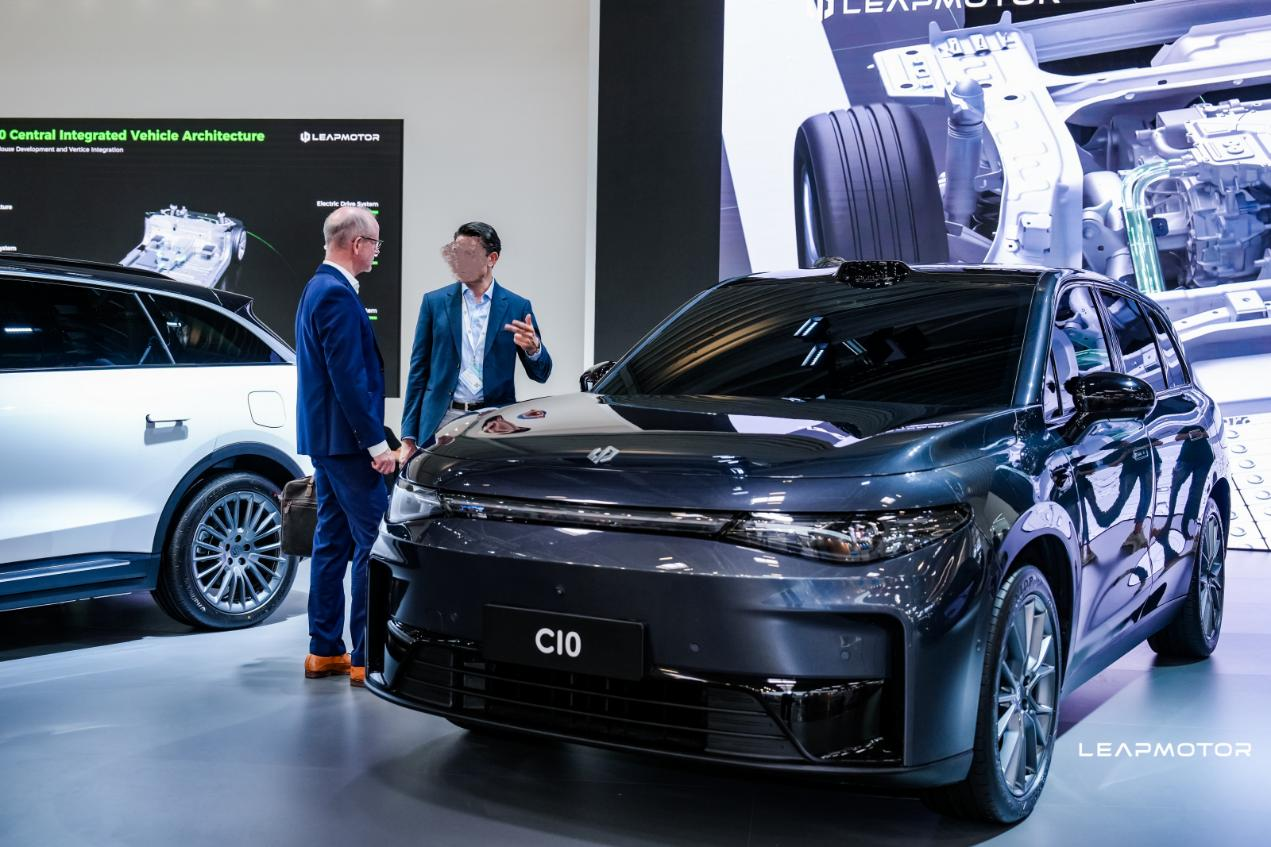LEAPMOTOR: (586, 446, 620, 462)
